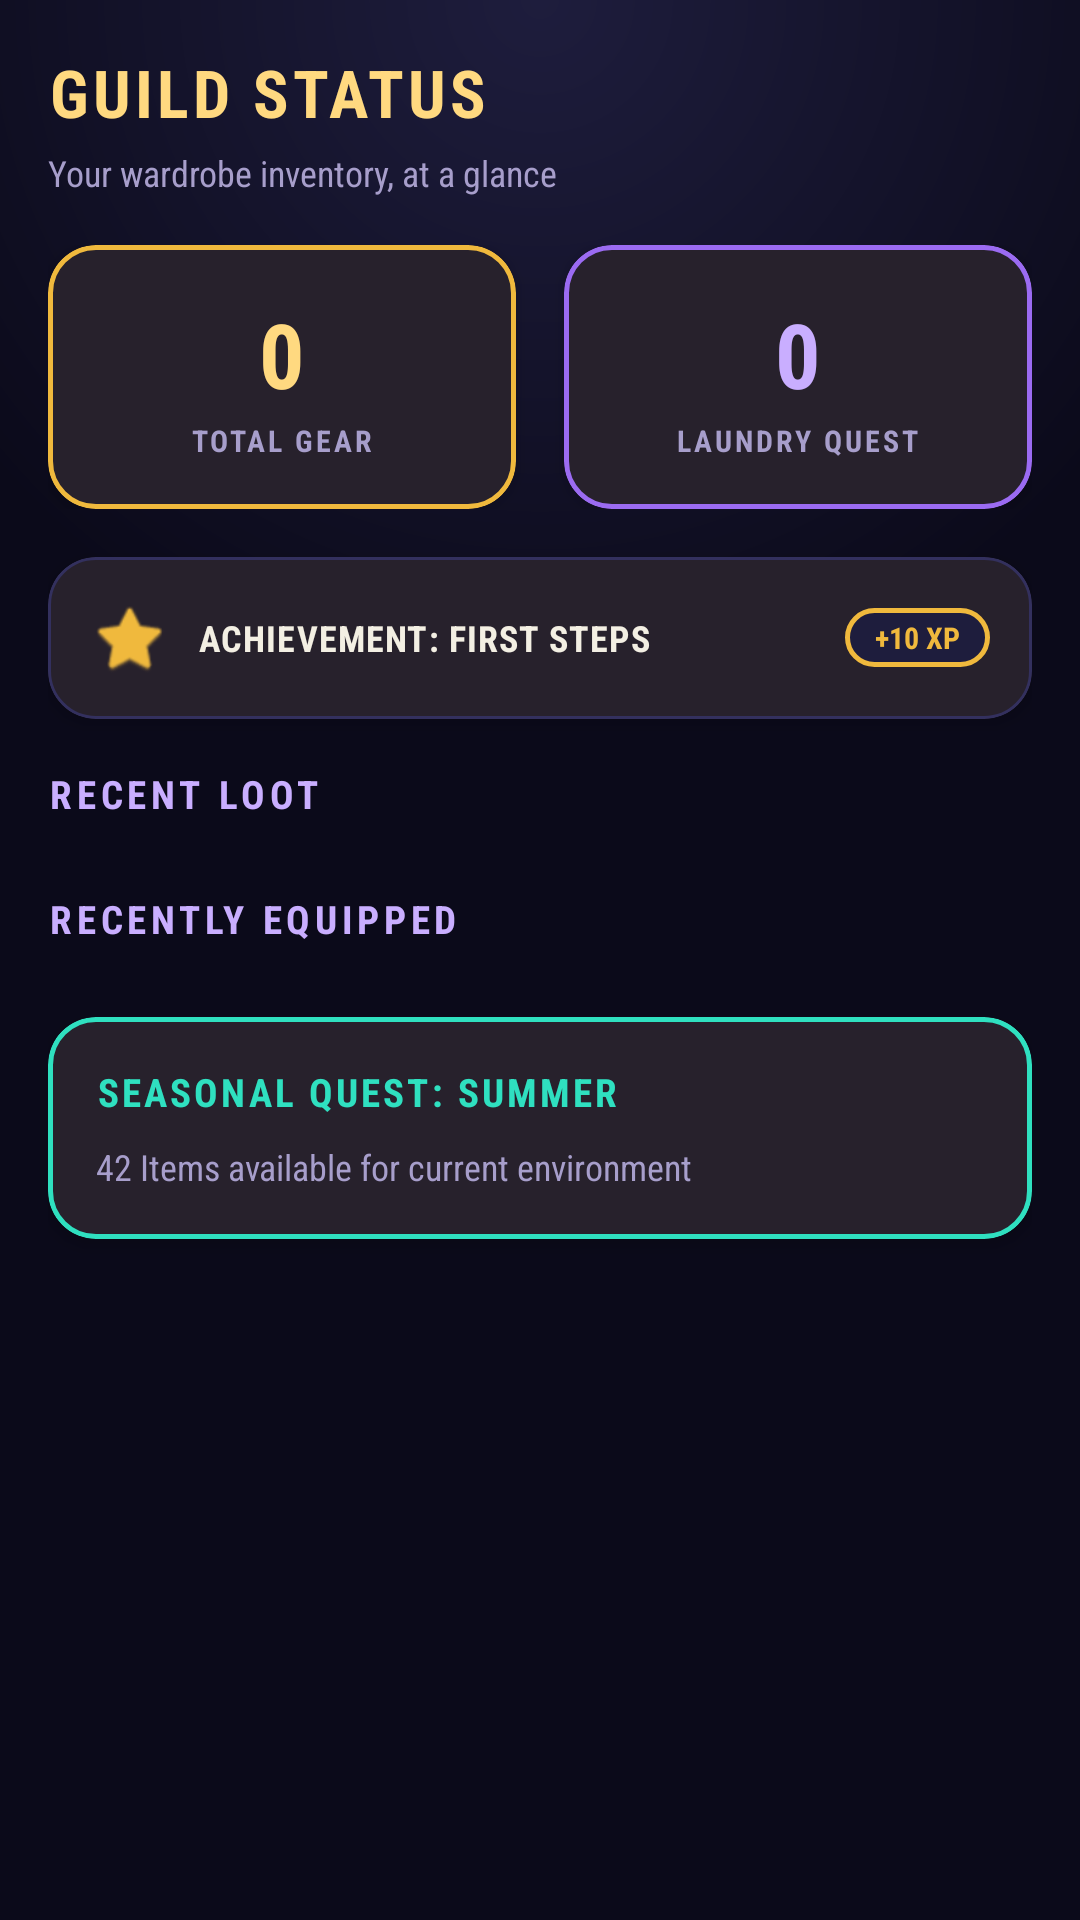

Point at icon controls on the screen. Image size 1080 x 1920, points as point (x, y).
star on: point (129, 638)
